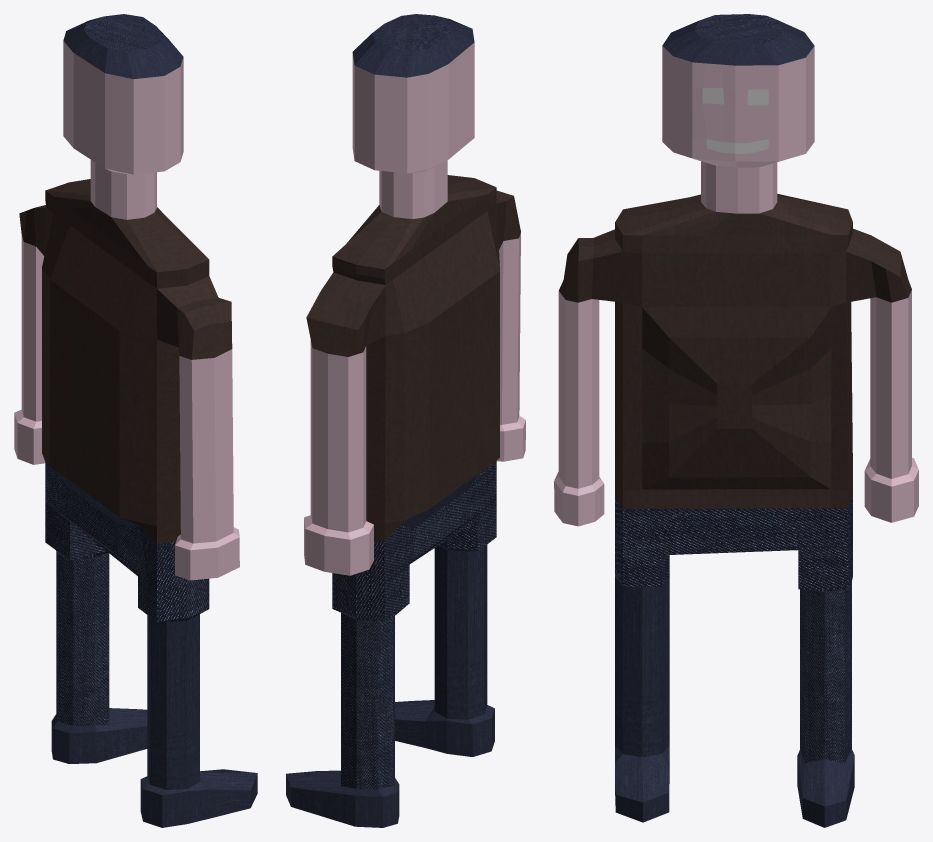
Rendered from Spieler1.fbx.
3 views of the same model, side by side, from view 1: azimuth 30°, elevation 25°; view 2: azimuth 150°, elevation 25°; view 3: azimuth 270°, elevation 25° (orthographic).
Parts seen in each view (by area): view 1: Cylinder; view 2: Cylinder; view 3: Cylinder.
Part boxes in pixels (x1,y1,x2,y2): Cylinder: (14, 14, 257, 827); Cylinder: (286, 14, 525, 827); Cylinder: (554, 14, 918, 827).
Size of the model in its own units: 557 by 3053 by 1333.
